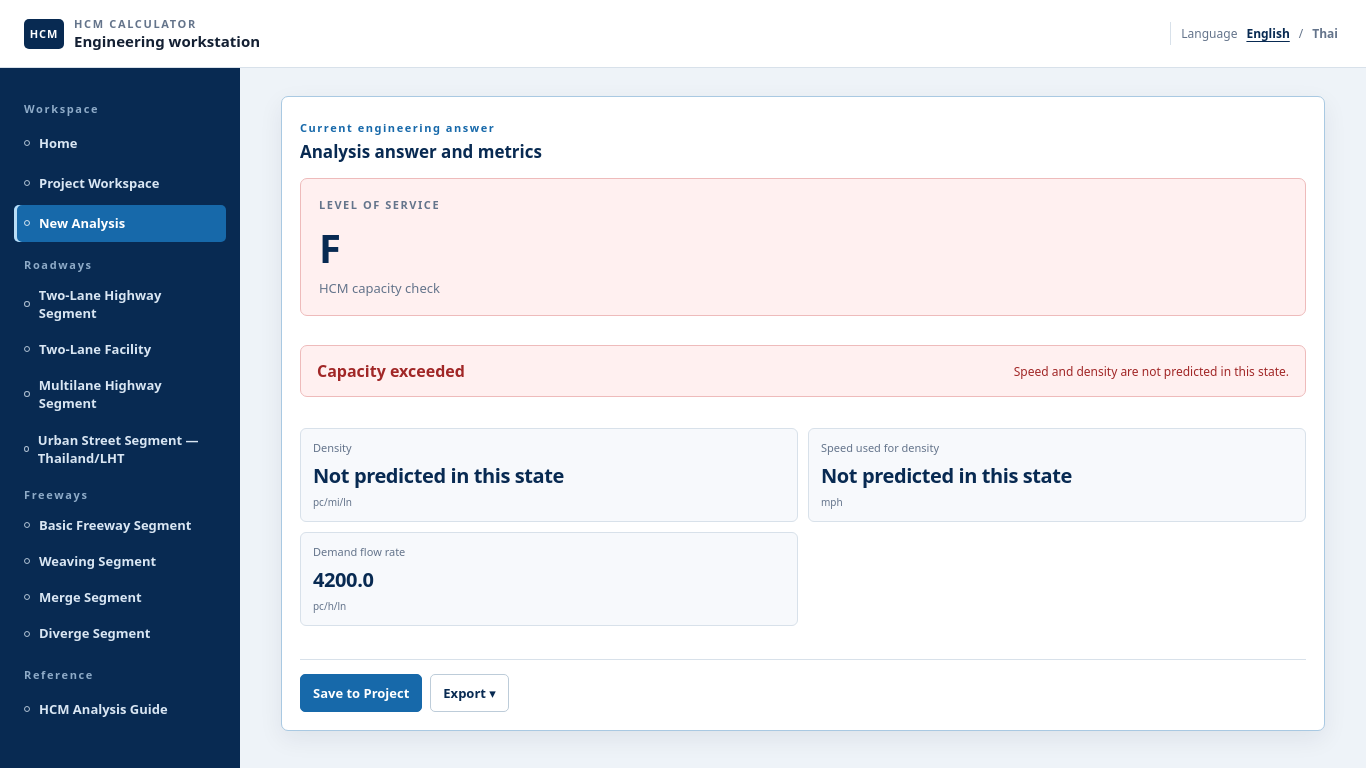
Scenario: result metric availability › renders not-predicted separately from not-calculated and localizes it
Expected: the text "Not predicted in this state" is shown 2 times, [313,462,564,489]; [821,462,1072,489]
Expected: the text "Demand flow rate" is shown, [313,544,405,559]
Click the button "Thai" at (1325, 34), box [1308,22,1342,45]
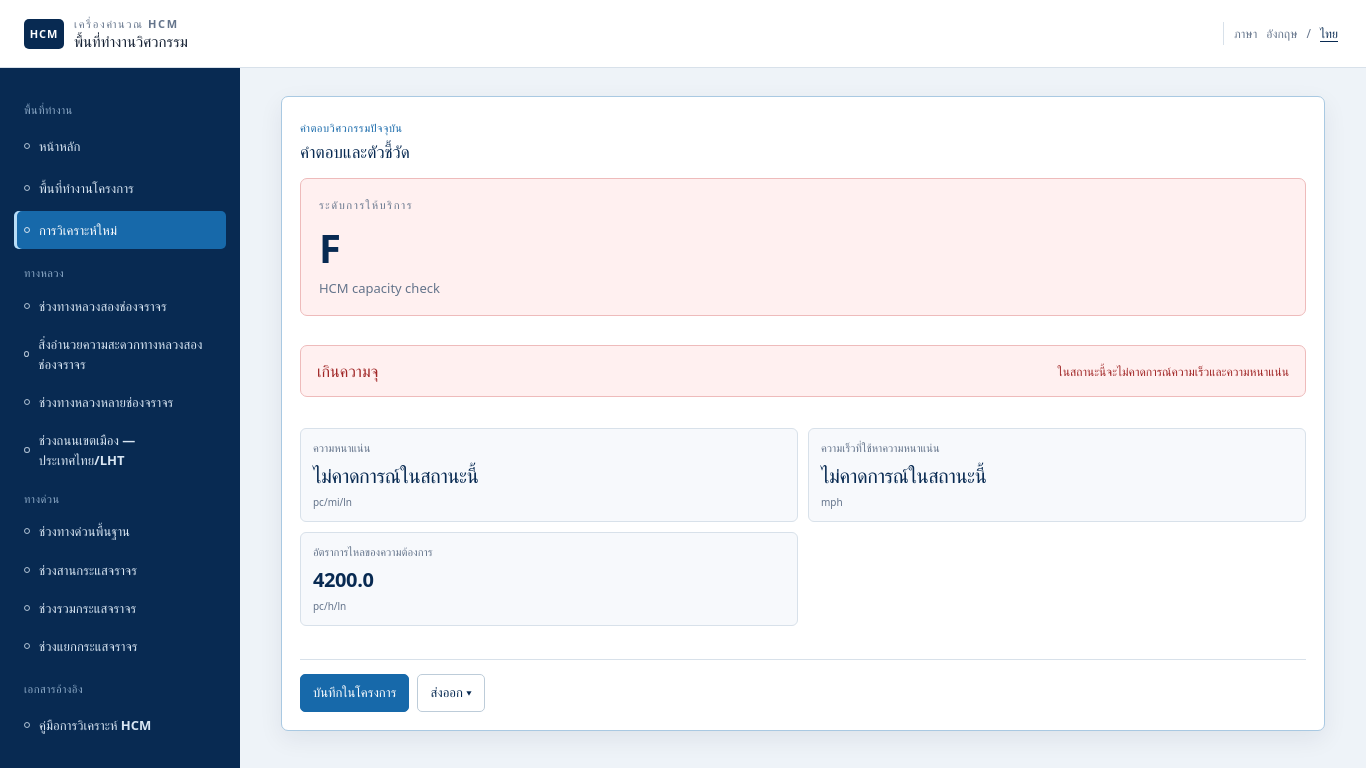
Expected: the text "ไม่คาดการณ์ในสถานะนี้" is shown 2 times, [313,462,478,489]; [821,462,986,489]
Expected: the text "ในสถานะนี้จะไม่คาดการณ์ความเร็วและความหนาแน่น" is shown, [1058,363,1289,380]
